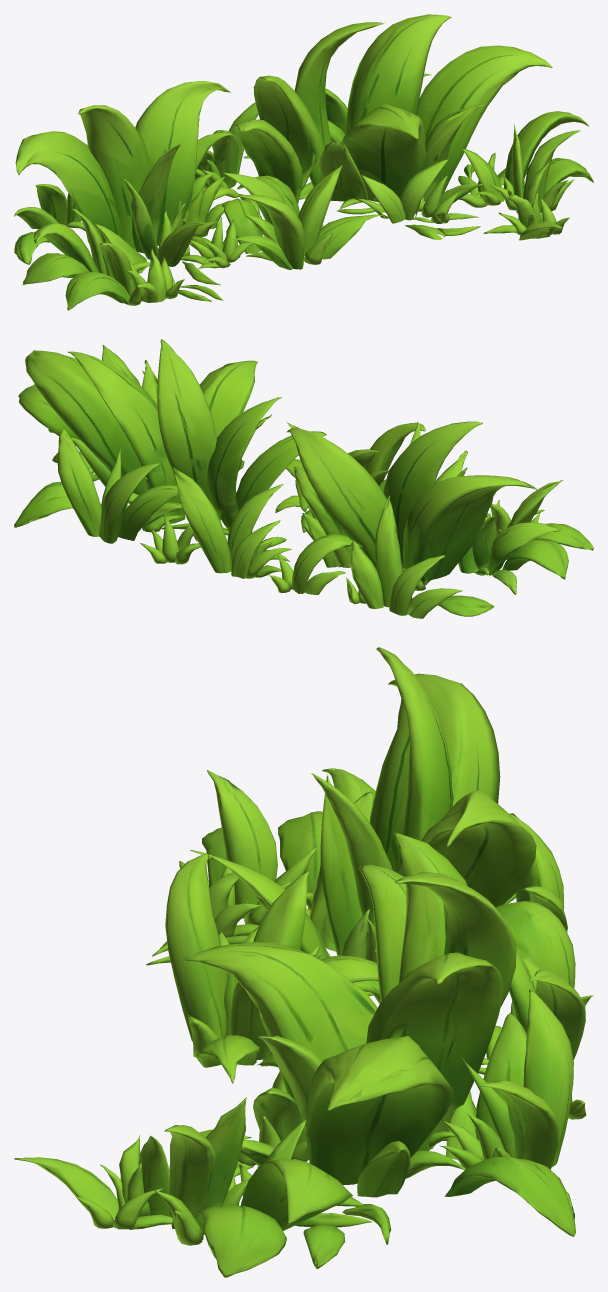
File: Meshy_AI_Lush_Green_Grass_1024231138_texture.fbx
The picture shows the model from 3 angles, top to bottom: view 1: azimuth 30°, elevation 25°; view 2: azimuth 150°, elevation 25°; view 3: azimuth 270°, elevation 25°; orthographic projection. The views are drawn at different scales.
Parts seen in each view (by area): view 1: Mesh_0; view 2: Mesh_0; view 3: Mesh_0.
Boxes of the visible parts, box(x1,y1,x2,y2) form: Mesh_0: box(14, 14, 593, 310); Mesh_0: box(14, 339, 593, 618); Mesh_0: box(14, 647, 593, 1277).
Size of the model in its own units: 95.51 by 28.03 by 52.25.
1 material, 1 textured.
